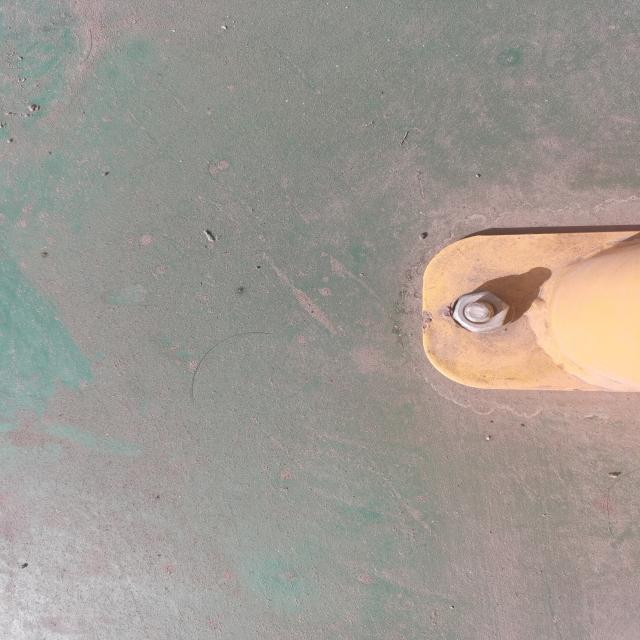bolt nut: (451, 291, 511, 333)
